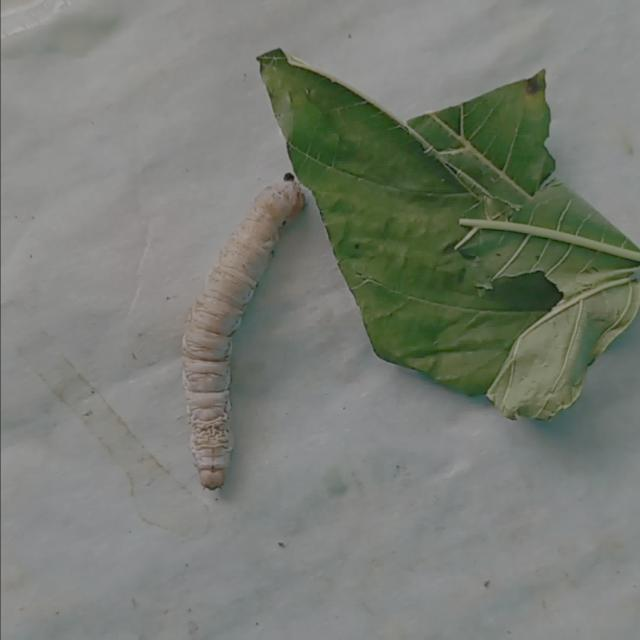Grasserie: (122, 136, 348, 512)
